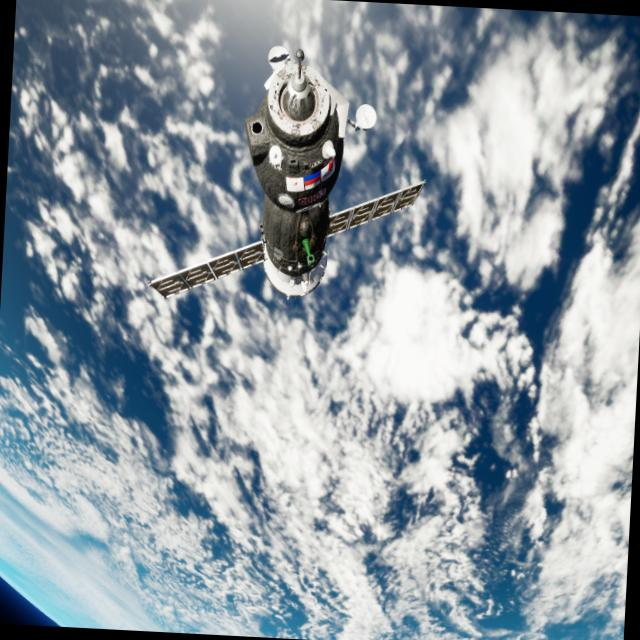Satellites revolving around earth: (145, 36, 434, 315)
